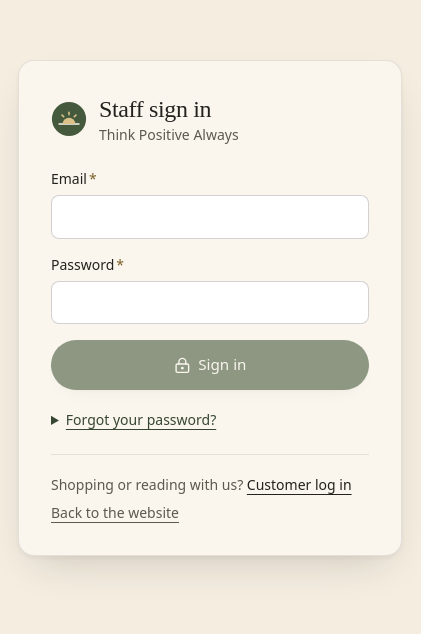
it: admin authentication › explains staff password resets and links back to the customer login
Expected: the heading "Staff sign in" is shown, [99,96,211,122]
Click the heading "Forgot your password?".
click(141, 420)  # box [66,410,216,429]
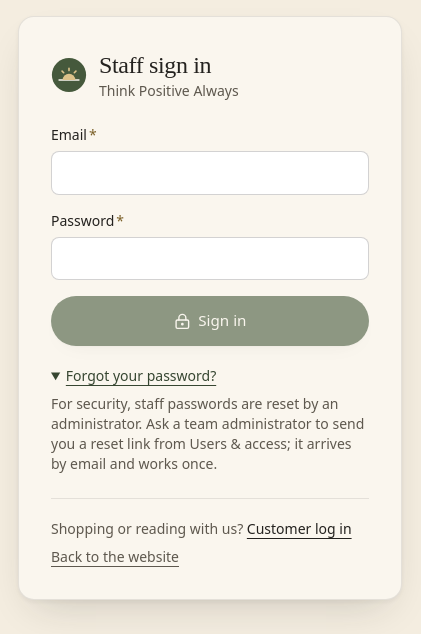
Expected: the text "reset by an administrator" is shown, [51,394,364,473]
